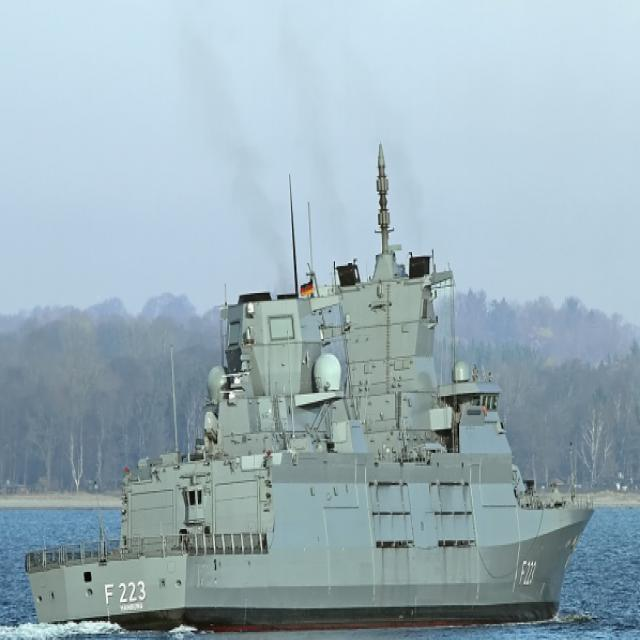Fragata: (26, 128, 608, 638)
